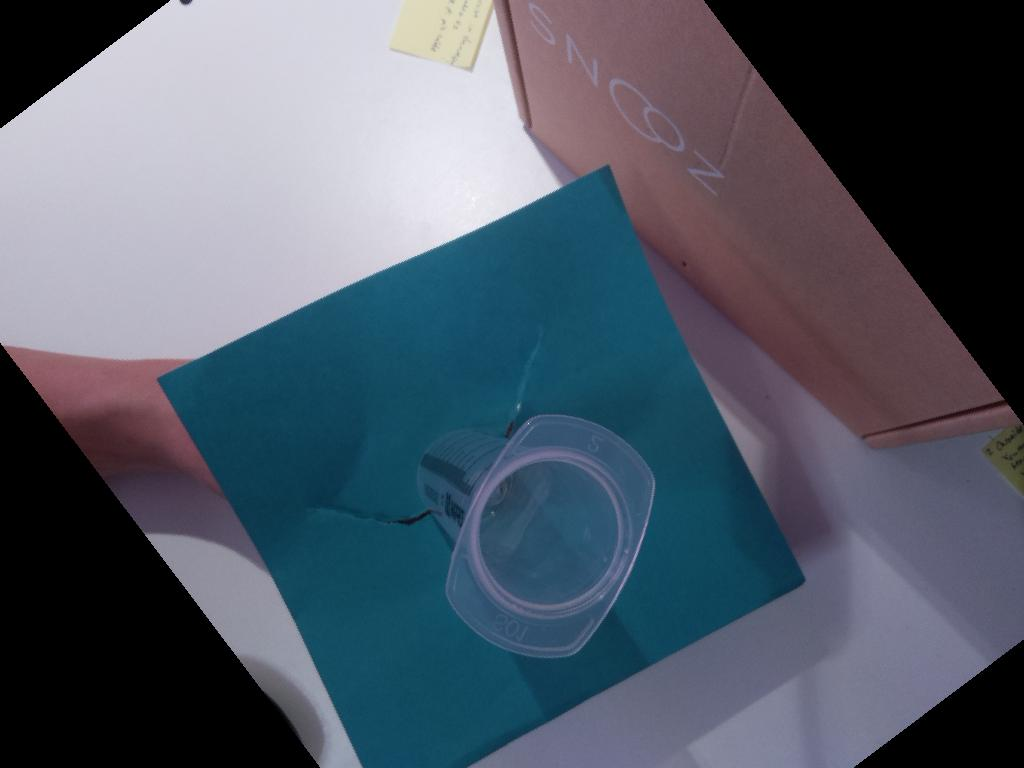clean: (441, 412, 658, 664)
